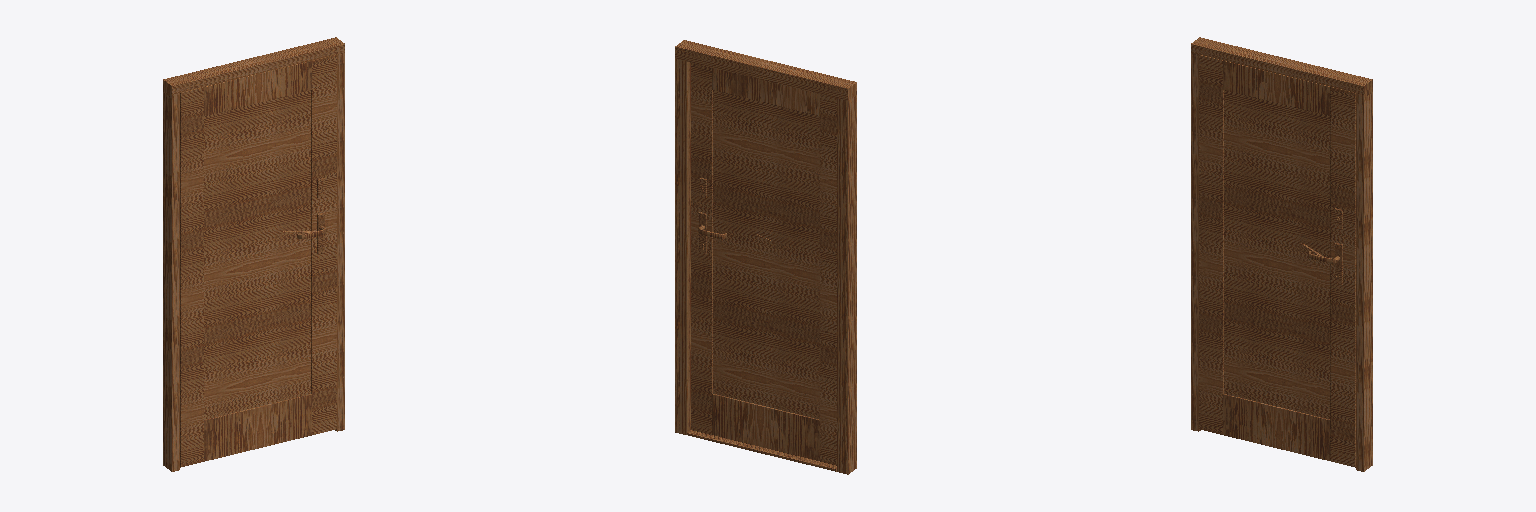
3 renders of one model, left to right at view 1: azimuth 30°, elevation 25°; view 2: azimuth 150°, elevation 25°; view 3: azimuth 330°, elevation 25°, orthographic.
Visible parts, largest first — view 1: AM109_060_02, AM109_060_00; view 2: AM109_060_02, AM109_060_00; view 3: AM109_060_02, AM109_060_00.
Boxes of the visible parts, x1,y1,x2,y2 form: AM109_060_02: [180, 55, 336, 466]; AM109_060_00: [163, 37, 344, 471]; AM109_060_02: [691, 63, 836, 465]; AM109_060_00: [675, 40, 856, 474]; AM109_060_02: [1199, 55, 1355, 466]; AM109_060_00: [1191, 37, 1372, 471].
Bounding box in the file's own units: 1.99 × 4.23 × 0.3579.
3 materials, 1 textured.